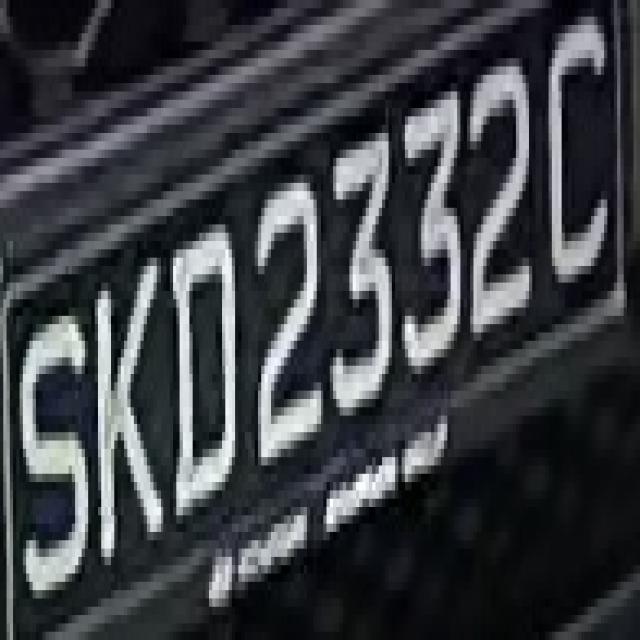2: (245, 166, 326, 474), (467, 58, 535, 349)
3: (317, 108, 395, 416), (392, 67, 460, 374)
C: (539, 33, 614, 291)
D: (166, 216, 238, 524)
K: (88, 241, 173, 582)
S: (10, 300, 94, 624)
